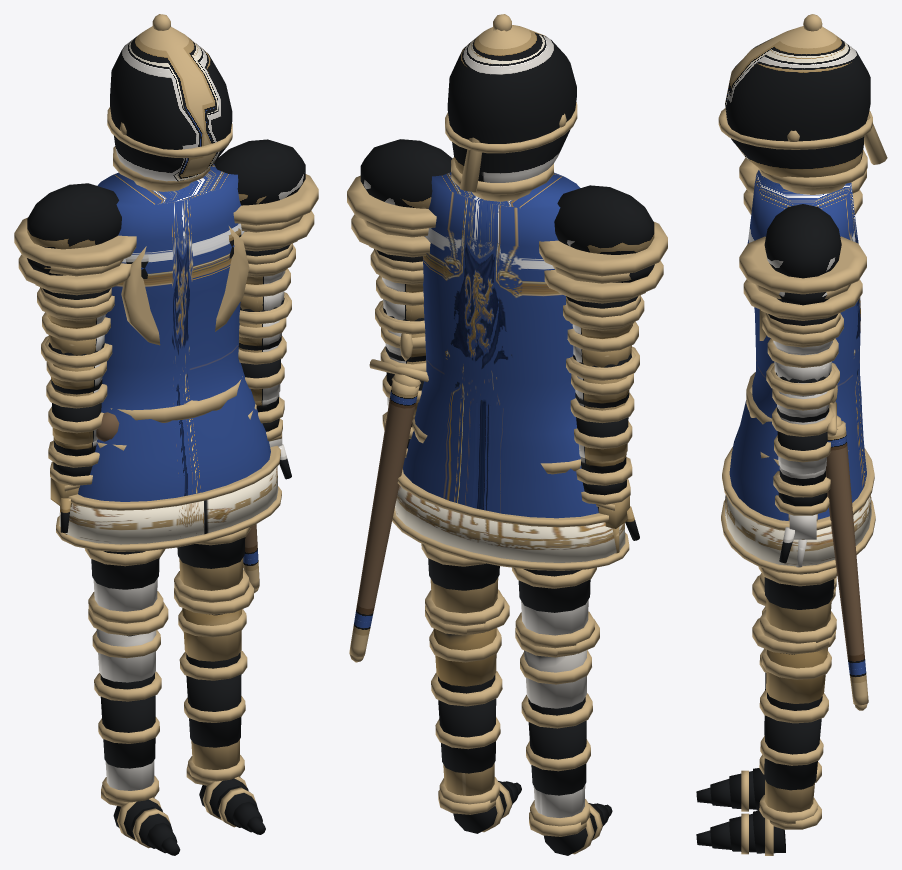
File: sir_aldric_midpoly.obj
3 views of the same model, side by side, from view 1: azimuth 30°, elevation 25°; view 2: azimuth 150°, elevation 25°; view 3: azimuth 270°, elevation 25° (orthographic). The views are drawn at different scales.
Bounding box in the file's own units: 0.7043 × 1.87 × 0.3962.
Materials: 1 (1 with a texture image).
